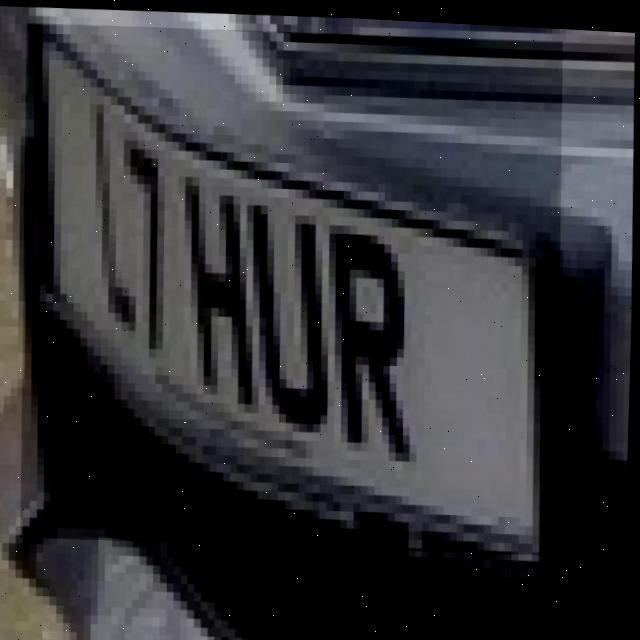LicensePlate: (14, 13, 571, 558)
